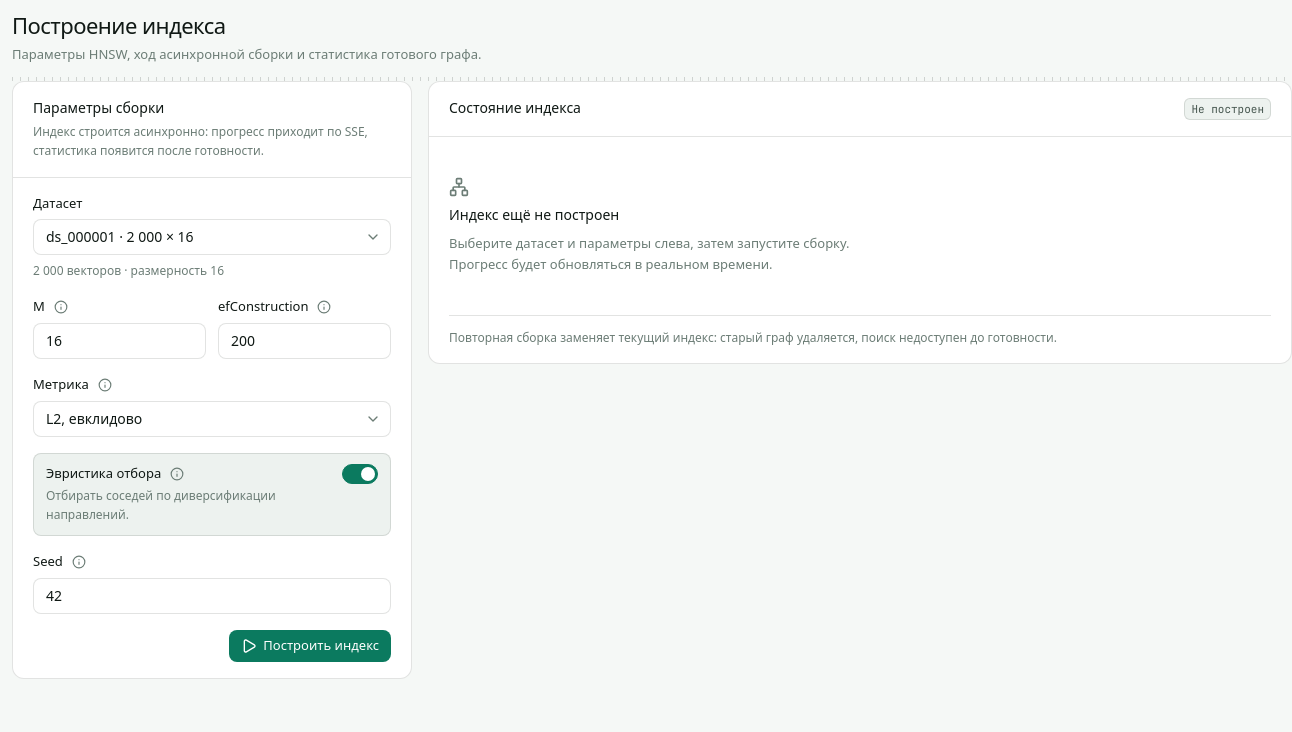
Scenario: IndexPage › shows progress while the index is building
This screenshot has width=1292, height=732.
Expected: the dropdown labelled "Датасет" is shown, [33,219,391,255]
Click the button "Построить индекс" at (310, 646), box [229,630,391,662]
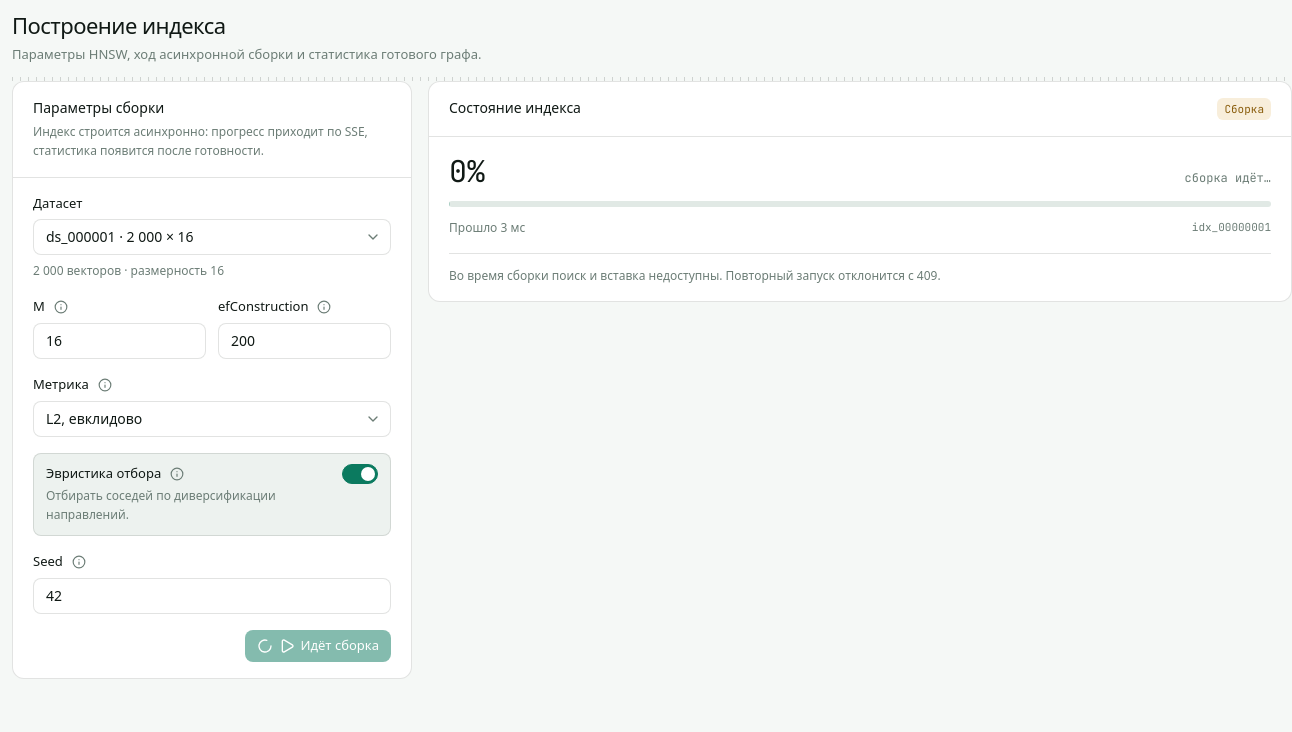
Now the button "Идёт сборка" is shown, box [244,630,391,662]
Now the progress indicator named "Прогресс сборки индекса" is shown, box [449,201,1271,207]
